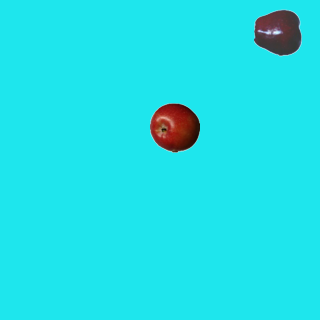Apple Braeburn: (149, 102, 199, 152)
Apple Red Delicious: (253, 7, 303, 57)
